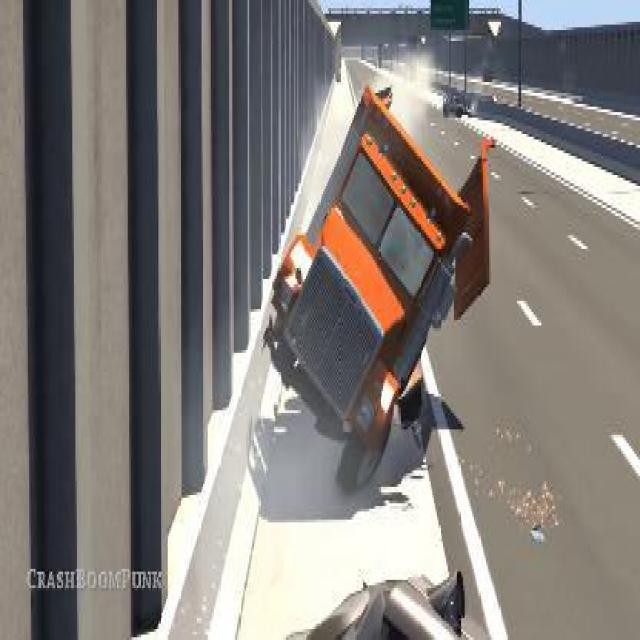accident: (260, 68, 495, 490)
